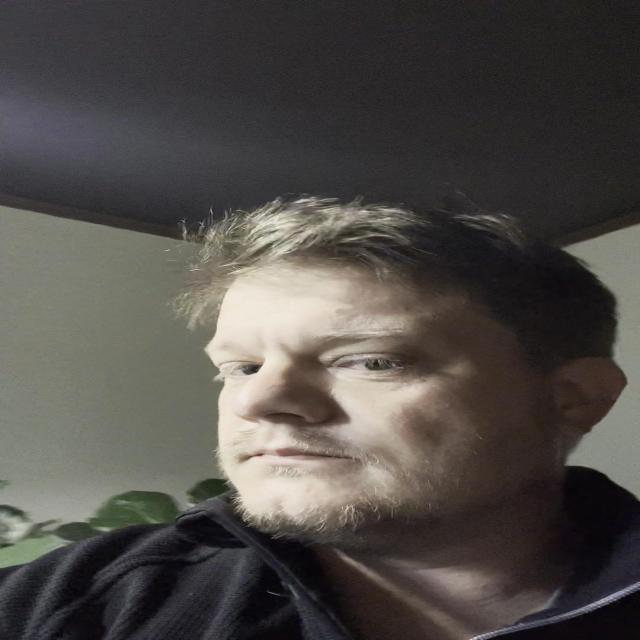no-helmet: (180, 202, 602, 565)
